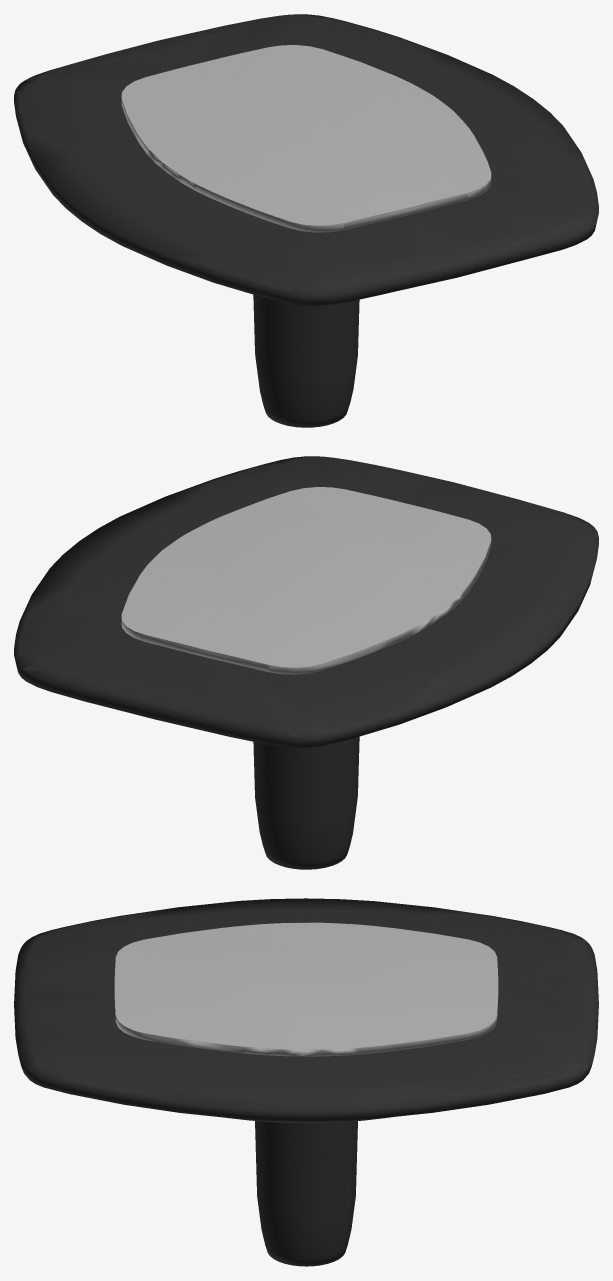
The picture shows the model from 3 angles, top to bottom: view 1: azimuth 30°, elevation 25°; view 2: azimuth 150°, elevation 25°; view 3: azimuth 270°, elevation 25°; orthographic projection. The views are drawn at different scales.
Parts seen in each view (by area): view 1: Siteco DL 30; view 2: Siteco DL 30; view 3: Siteco DL 30.
Boxes of the visible parts, x1=… form: Siteco DL 30: x1=14, y1=14, x2=598, y2=427; Siteco DL 30: x1=14, y1=456, x2=598, y2=869; Siteco DL 30: x1=14, y1=898, x2=598, y2=1266.
Bounding box in the file's own units: 0.5097 × 0.2992 × 0.5935.
3 materials, 3 textured.
